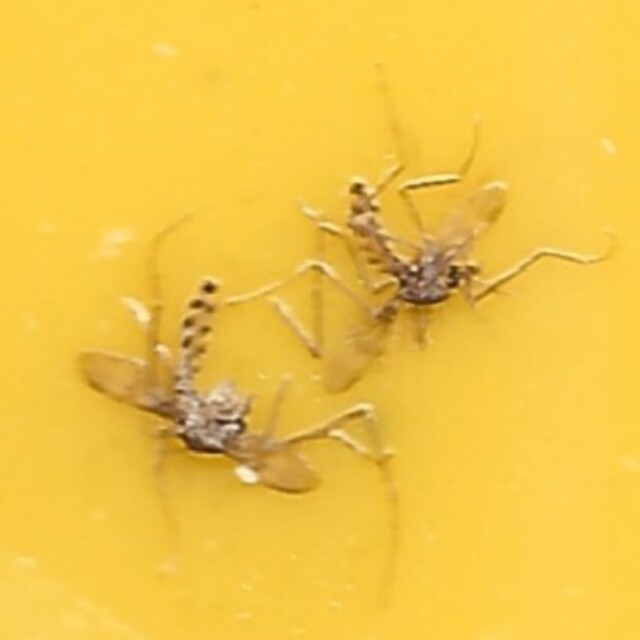Nematocera: (339, 174, 475, 317), (165, 271, 257, 466)
